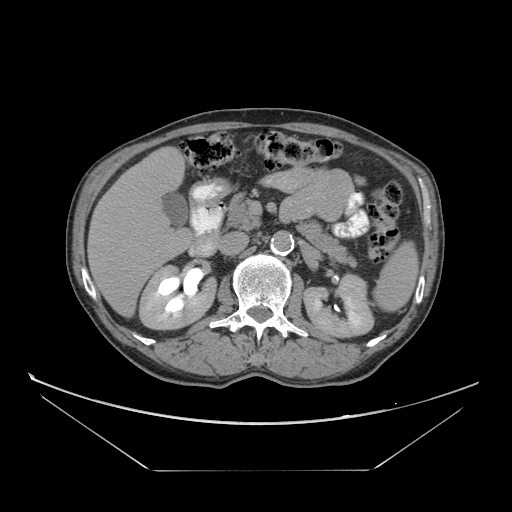left_kidney: (137, 260, 219, 333)
right_kidney: (297, 269, 377, 339)
